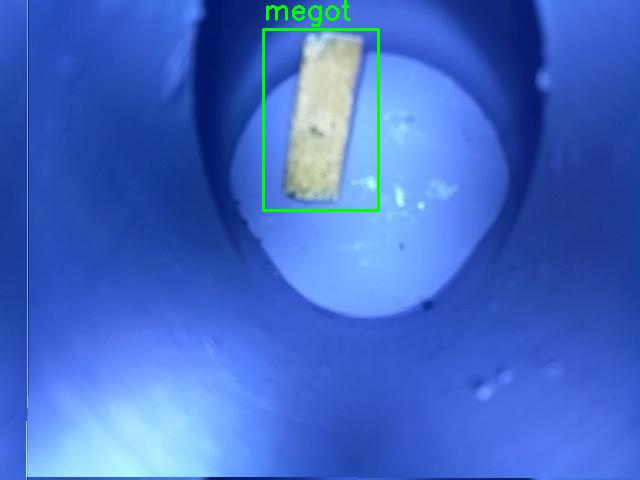megot: (263, 29, 378, 210)
